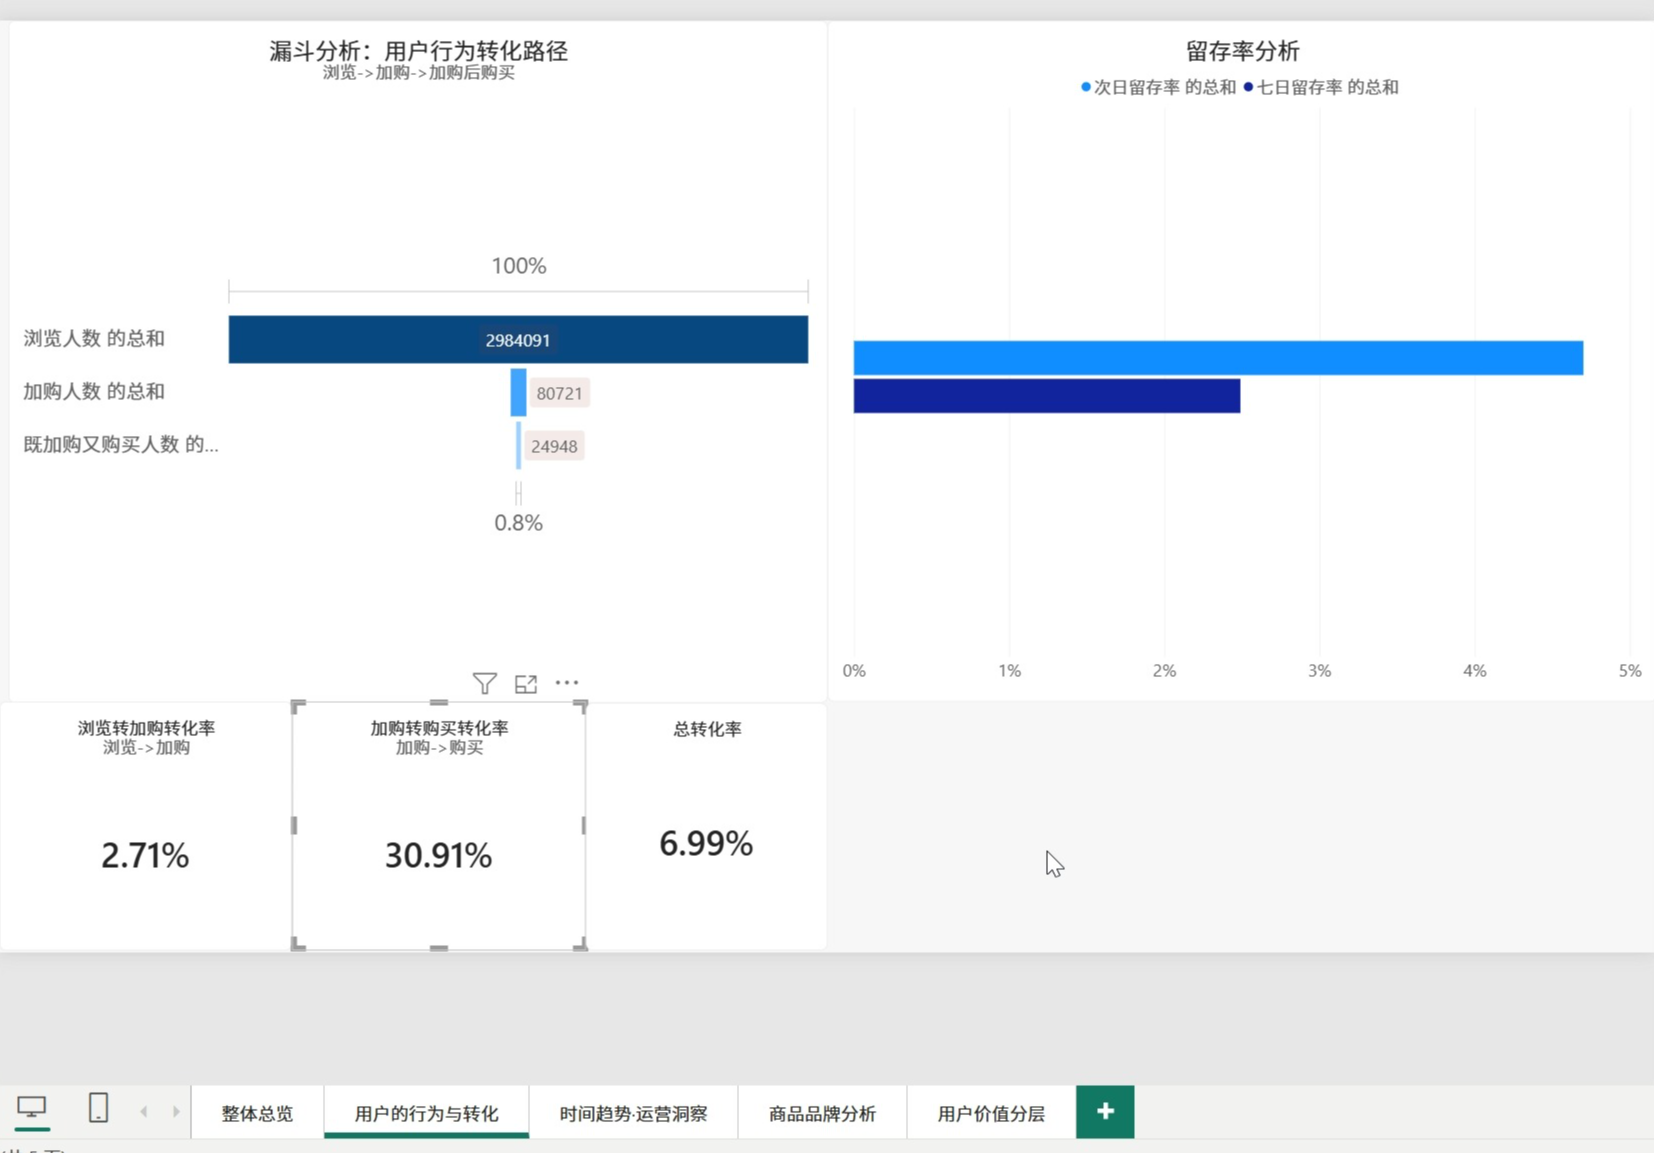

This screenshot's page, from the dashboard's own definition file:
{"tool":"powerbi","page":{"name":"用户的行为与转化","canvas":[1920,1080],"ordinal":1},"visuals":[{"type":"funnel","title":"漏斗分析：用户行为转化路径","fields":{"Y":["Sum(用户漏斗分析.浏览人数)","Sum(用户漏斗分析.加购人数)","Sum(用户漏斗分析.既加购又购买人数)"]},"box":[10.4,0,949,790.8],"z":0},{"type":"clusteredBarChart","title":"留存率分析","fields":{"Y":["Sum(留存率分析.次日留存率)","Sum(留存率分析.七日留存率)"]},"box":[959.4,0,961.2,789.1],"z":1},{"type":"kpi","title":"浏览转加购转化率","fields":{"Indicator":["Sum(用户漏斗分析.浏览转加购转化率)"],"TrendLine":["用户漏斗分析.浏览转加购转化率"]},"box":[0,789.1,338.9,288.5],"z":2},{"type":"kpi","title":"加购转购买转化率","fields":{"Indicator":["Sum(用户漏斗分析.加购转购买转化率)"],"TrendLine":["用户漏斗分析.加购转购买转化率"]},"box":[338.9,789.1,340.7,288.5],"z":3},{"type":"kpi","title":"总转化率","fields":{"Indicator":["Sum(用户漏斗分析.总转化率)"],"TrendLine":["用户漏斗分析.总转化率"]},"box":[679.6,790.8,279.8,286.8],"z":4}]}

Visuals, with their boxes on the page's 1920x1080 design canvas (x1, y1, x2, y2). These are canvas units, not pixel positions in the 1654x1153 screenshot, which may show the page scaled, cropped or inside an application window:
"漏斗分析：用户行为转化路径" funnel: [x1=10, y1=0, x2=959, y2=791]
"留存率分析" clusteredBarChart: [x1=959, y1=0, x2=1921, y2=789]
"浏览转加购转化率" kpi: [x1=0, y1=789, x2=339, y2=1078]
"加购转购买转化率" kpi: [x1=339, y1=789, x2=680, y2=1078]
"总转化率" kpi: [x1=680, y1=791, x2=959, y2=1078]
